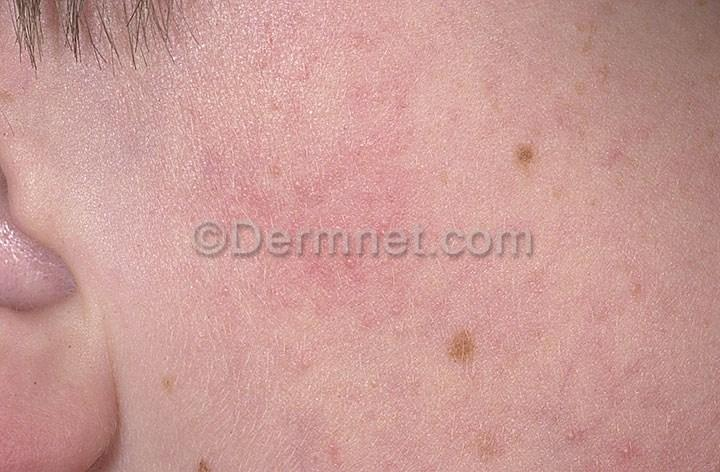eritema 1: (148, 0, 718, 472)
xerosis 1: (143, 8, 719, 467)
